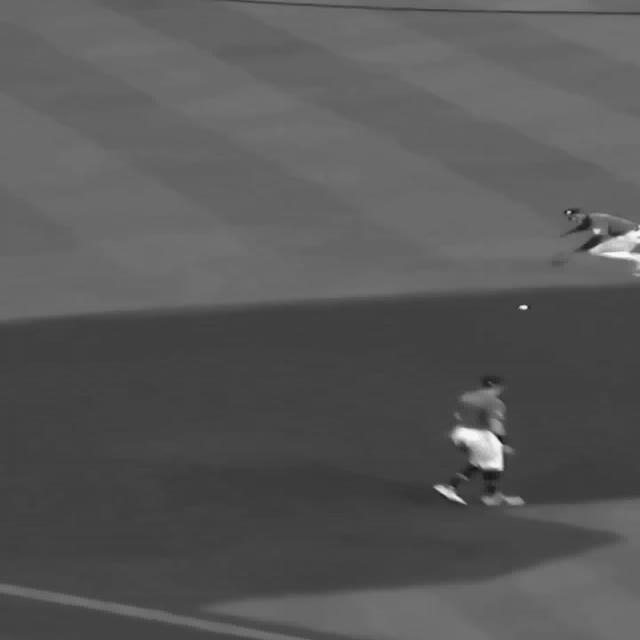baseball: (517, 304, 528, 310)
baseball_glove: (547, 252, 578, 264)
shoe: (431, 482, 467, 505), (479, 491, 525, 506)
